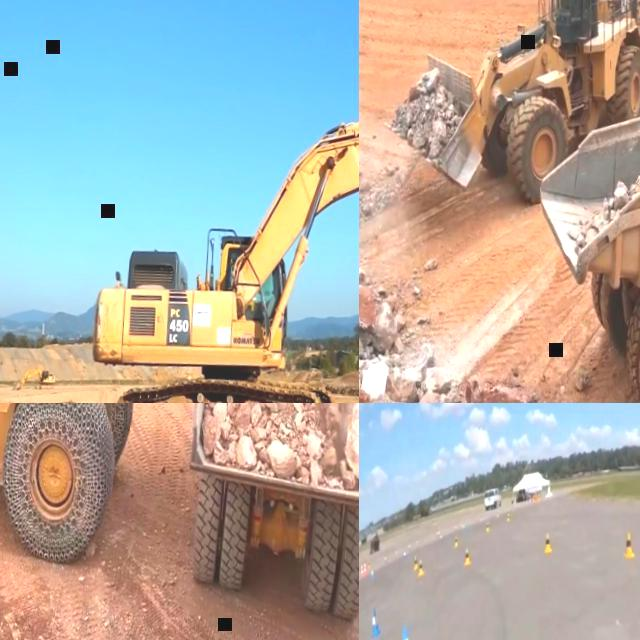machinery: (82, 43, 359, 403), (377, 0, 640, 218), (0, 403, 315, 585), (521, 36, 640, 403), (176, 403, 359, 628), (12, 366, 56, 394)
person: (45, 372, 48, 378)
safety_cone: (369, 610, 382, 640), (396, 625, 420, 640), (624, 532, 636, 562), (543, 531, 554, 556), (462, 548, 472, 568), (416, 559, 424, 578), (412, 556, 419, 571), (452, 535, 458, 549), (362, 562, 367, 576), (484, 522, 490, 532), (505, 511, 510, 521), (360, 564, 363, 578)
vehicle: (484, 486, 502, 512)
